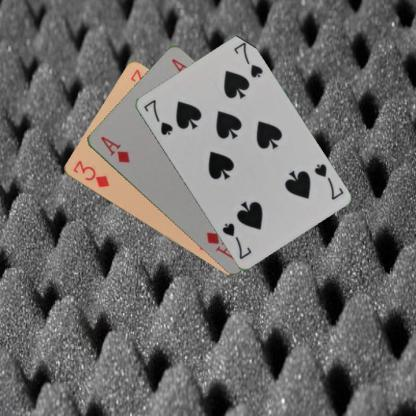3d: (70, 158, 111, 189)
7s: (140, 96, 174, 136), (311, 161, 345, 201)
Ad: (97, 134, 131, 164)
